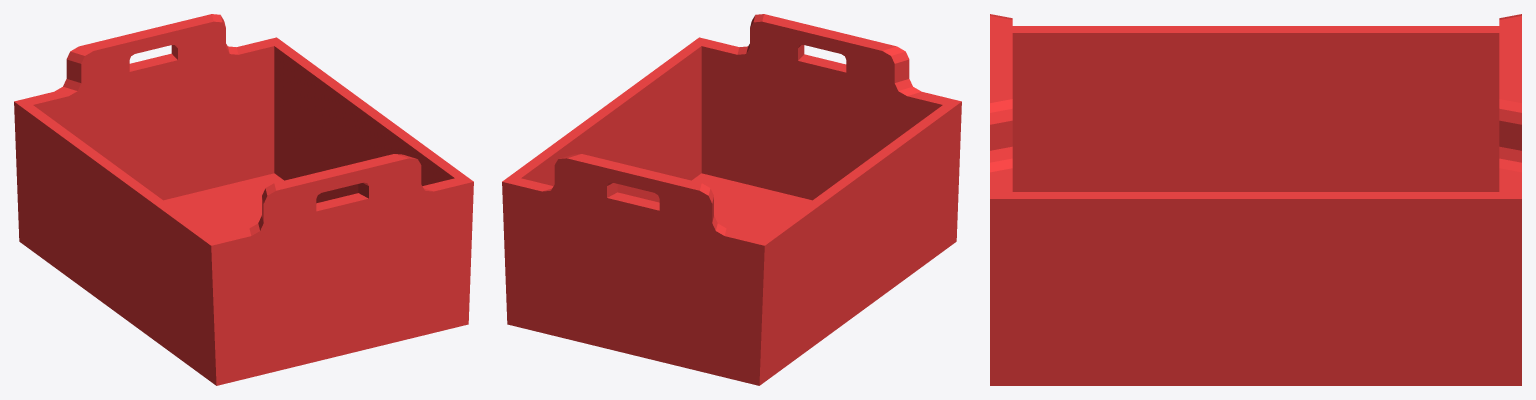
File: kırmızıkutu.fbx
The picture shows the model from 3 angles, left to right: view 1: azimuth 30°, elevation 25°; view 2: azimuth 150°, elevation 25°; view 3: azimuth 270°, elevation 25°; orthographic projection. The views are drawn at different scales.
Parts seen in each view (by area): view 1: Cube.028; view 2: Cube.028; view 3: Cube.028.
Part boxes in pixels (box(x1,y1,x2,y2)): Cube.028: box(14, 14, 473, 385); Cube.028: box(502, 14, 961, 385); Cube.028: box(990, 14, 1521, 385).
Bounding box in the file's own units: 115 × 150 × 75.64.
